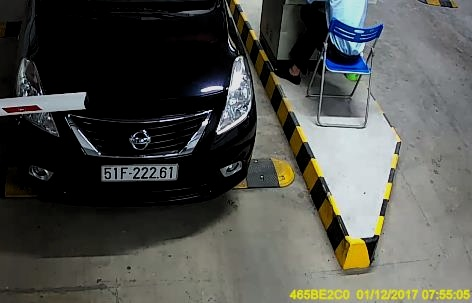plate: (99, 159, 180, 186)
